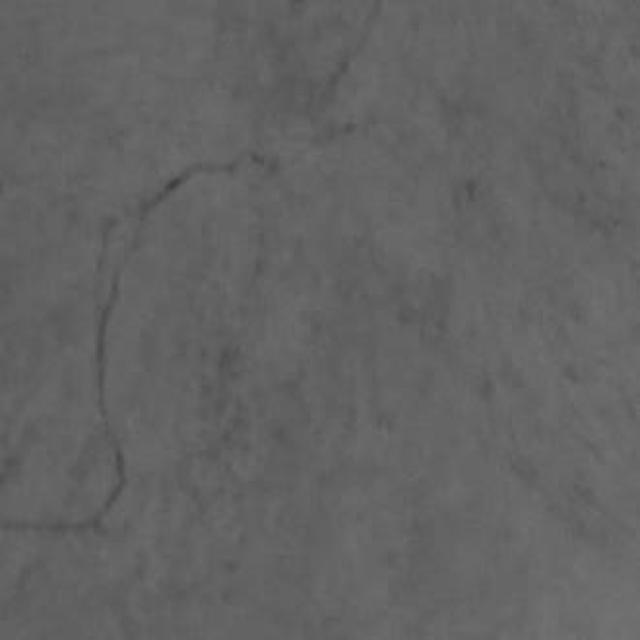crack: (0, 152, 279, 535), (319, 0, 382, 104)
